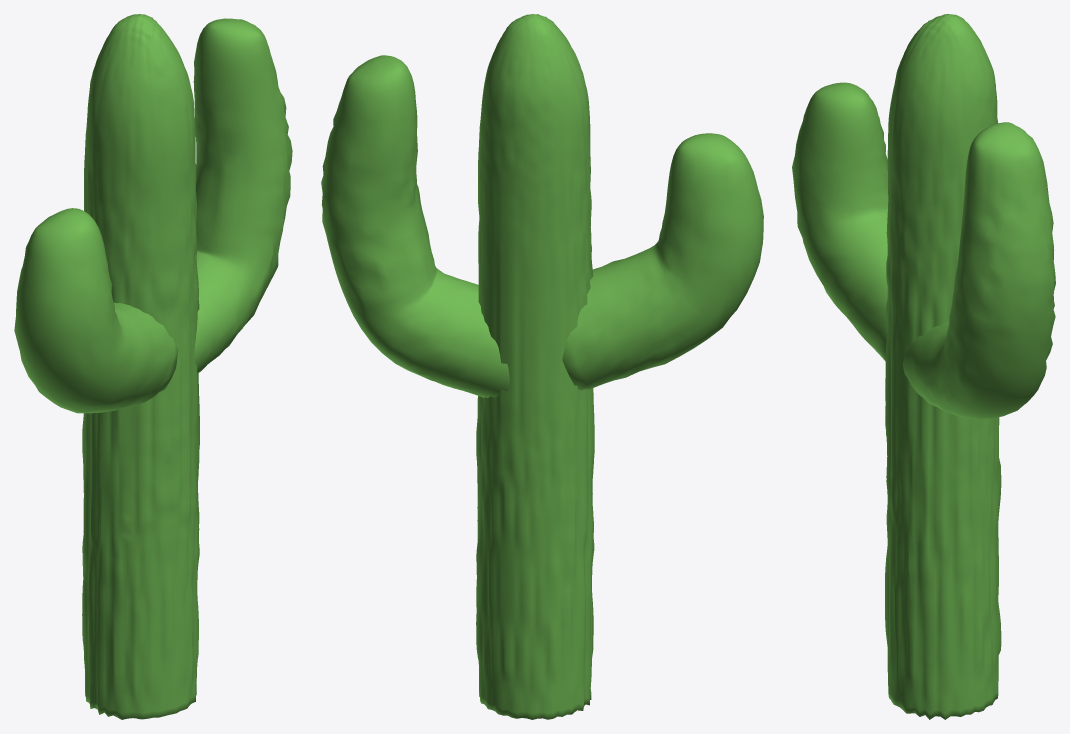
The model's file is Cactus .obj.
3 views of the same model, side by side, from view 1: azimuth 30°, elevation 25°; view 2: azimuth 150°, elevation 25°; view 3: azimuth 270°, elevation 25° (orthographic).
Visible parts, largest first — view 1: Main, Main_2, Main_1, Top_1, Top, Top_2; view 2: Main, Main_2, Main_1, Top_1, Top_2, Top; view 3: Main, Main_2, Main_1, Top_2, Top_1, Top.
Part boxes in pixels (box(x1,y1,x2,y2)): Main: box(82, 29, 199, 719); Main_2: box(193, 29, 292, 372); Main_1: box(14, 222, 178, 413); Top_1: box(31, 208, 95, 243); Top: box(111, 14, 163, 43); Top_2: box(203, 18, 265, 43); Main: box(476, 24, 594, 719); Main_2: box(321, 70, 509, 401); Main_1: box(562, 150, 763, 392); Top_1: box(675, 133, 744, 170); Top_2: box(347, 55, 408, 88); Top: box(505, 14, 557, 41); Main: box(882, 27, 1001, 719); Main_2: box(902, 143, 1055, 419); Main_1: box(792, 96, 888, 360); Top_2: box(971, 122, 1035, 162); Top_1: box(812, 82, 873, 110); Top: box(918, 14, 971, 42).
Size of the model in its own units: 2.13 by 4.03 by 1.42.
1 material, 1 textured.
